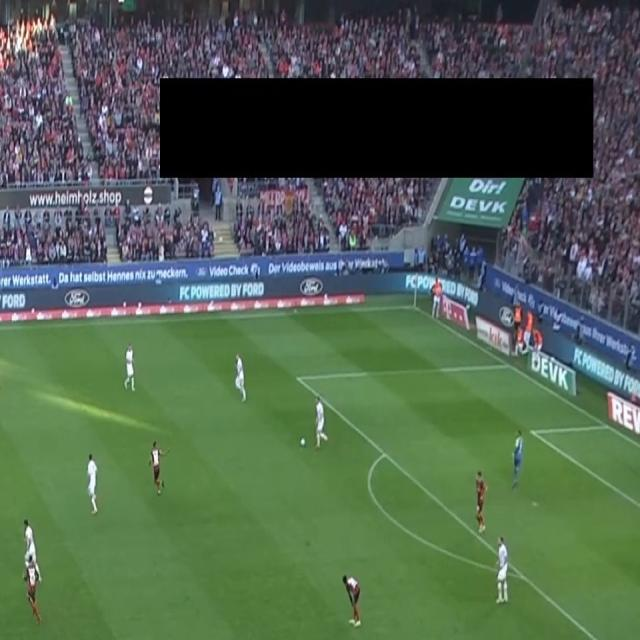ball: (300, 437, 306, 447)
